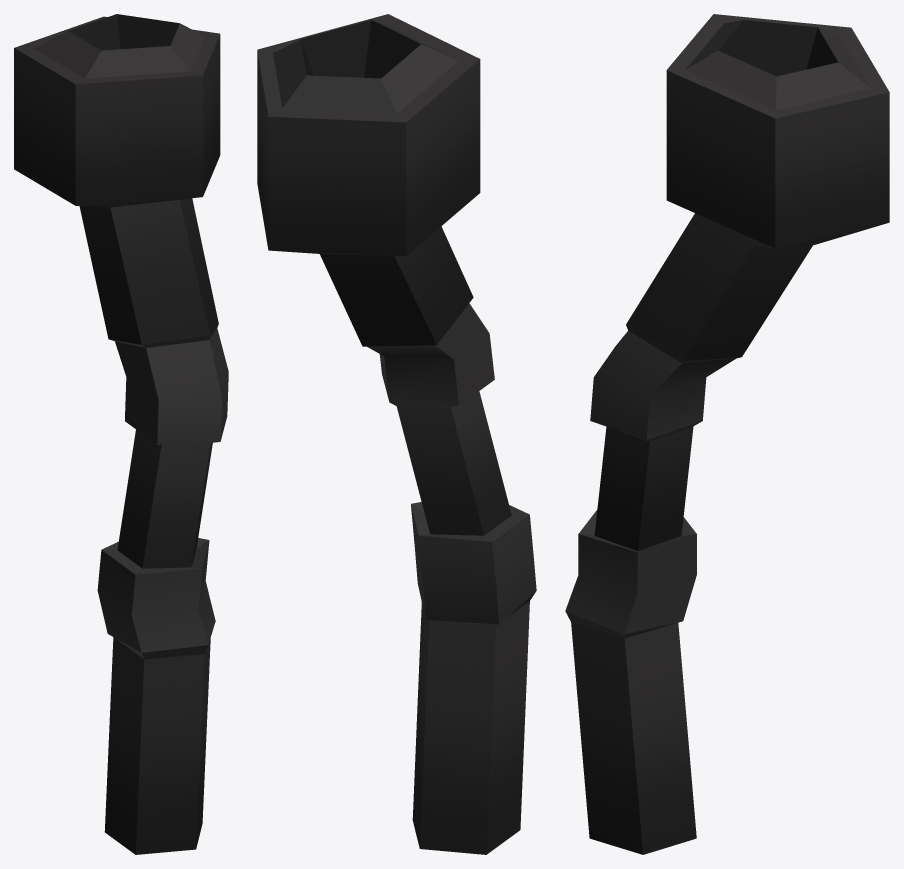
The model's file is fanasty_mod_chimney_pipe03.fbx.
The picture shows the model from 3 angles, left to right: view 1: azimuth 30°, elevation 25°; view 2: azimuth 150°, elevation 25°; view 3: azimuth 270°, elevation 25°; orthographic projection. The views are drawn at different scales.
Visible parts, largest first — view 1: chimney_pipe_03; view 2: chimney_pipe_03; view 3: chimney_pipe_03.
Part boxes in pixels (<box>): chimney_pipe_03: <box>14,14,228,854</box>; chimney_pipe_03: <box>257,14,536,854</box>; chimney_pipe_03: <box>565,14,889,854</box>.
Bounding box in the file's own units: 1.04 × 4.32 × 1.58.
